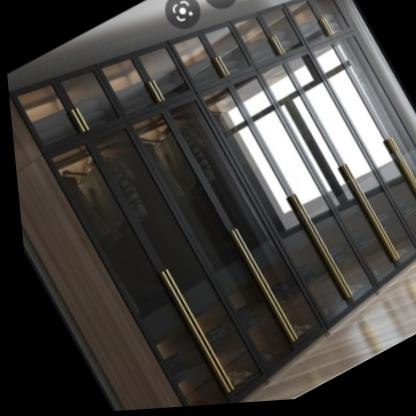Transparent Closet: (7, 0, 416, 408)
